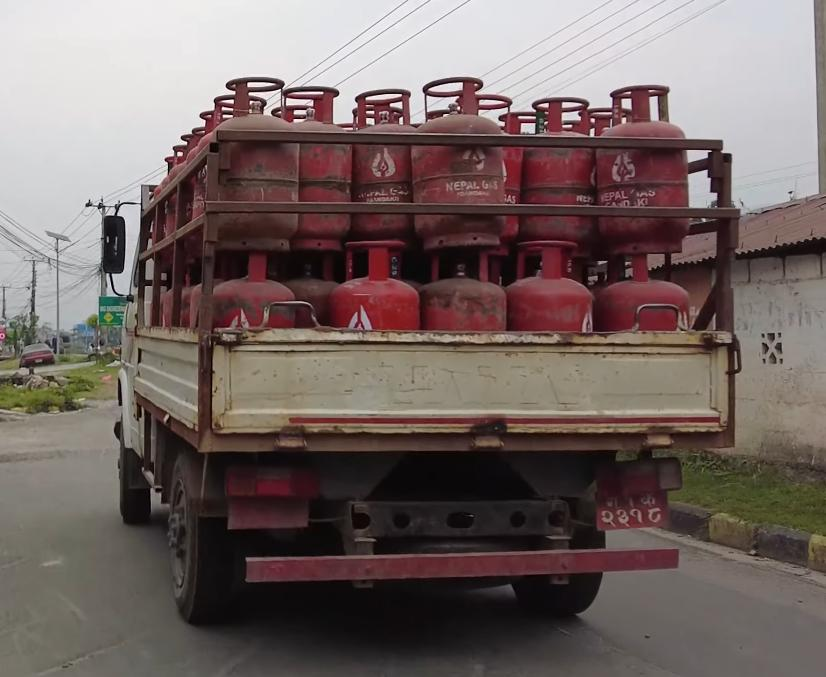car: (15, 340, 64, 373)
mini_truck: (93, 67, 749, 628)
